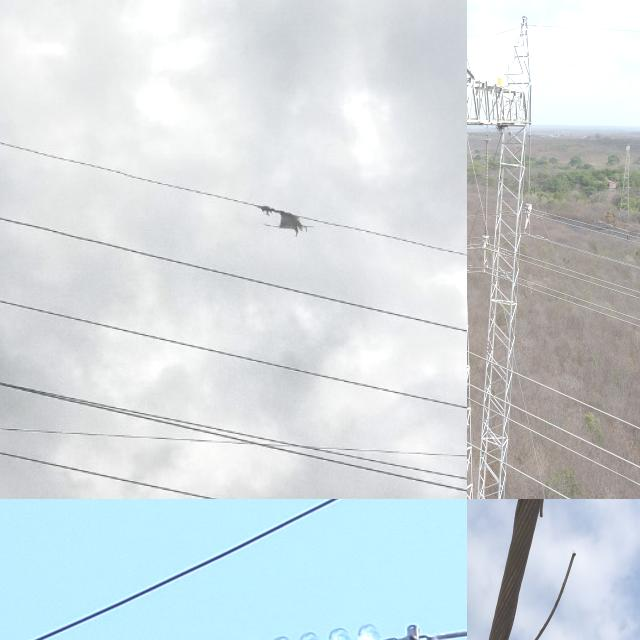杆塔: (467, 15, 533, 499), (616, 141, 634, 229)
植被遮挡: (235, 194, 323, 239)
正常电缆: (516, 417, 640, 490), (518, 404, 640, 470), (523, 373, 640, 434), (523, 284, 640, 330), (524, 278, 640, 322), (526, 260, 640, 301), (527, 254, 640, 295), (528, 232, 640, 271), (531, 212, 640, 245), (534, 208, 640, 240), (508, 463, 577, 499), (535, 20, 640, 40)
正常绝缘子: (113, 616, 424, 640), (482, 138, 492, 241)
电缆破损: (467, 499, 607, 640)
